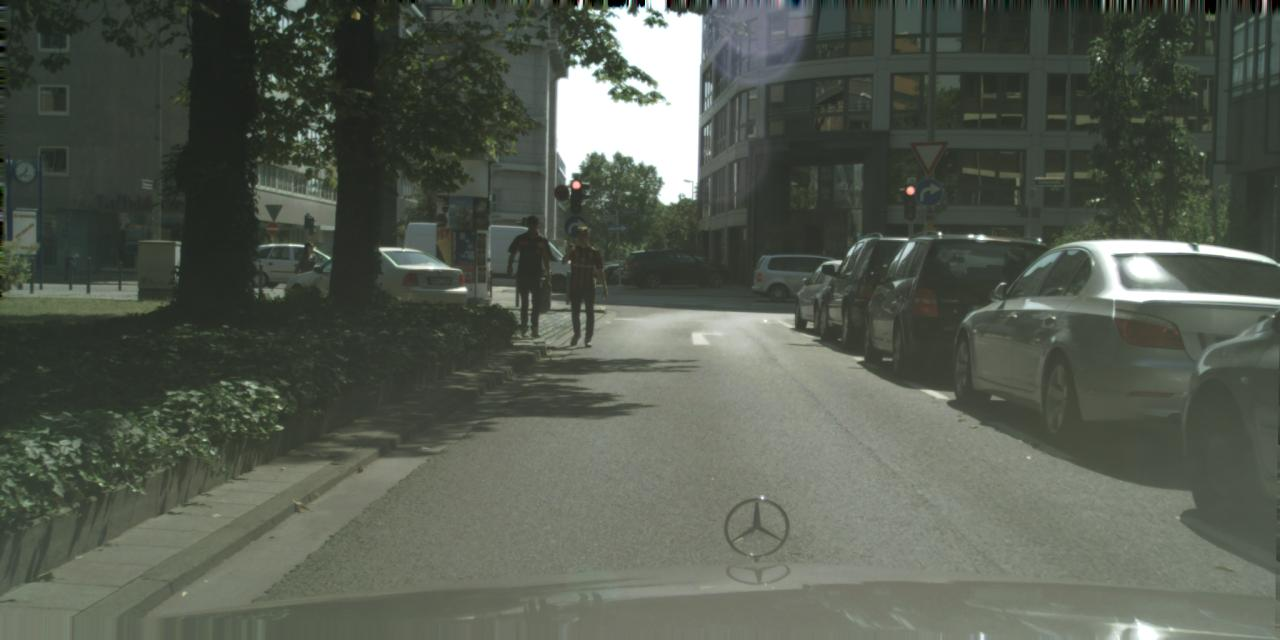ped: (507, 215, 556, 336), (556, 226, 605, 346), (292, 241, 320, 311)
